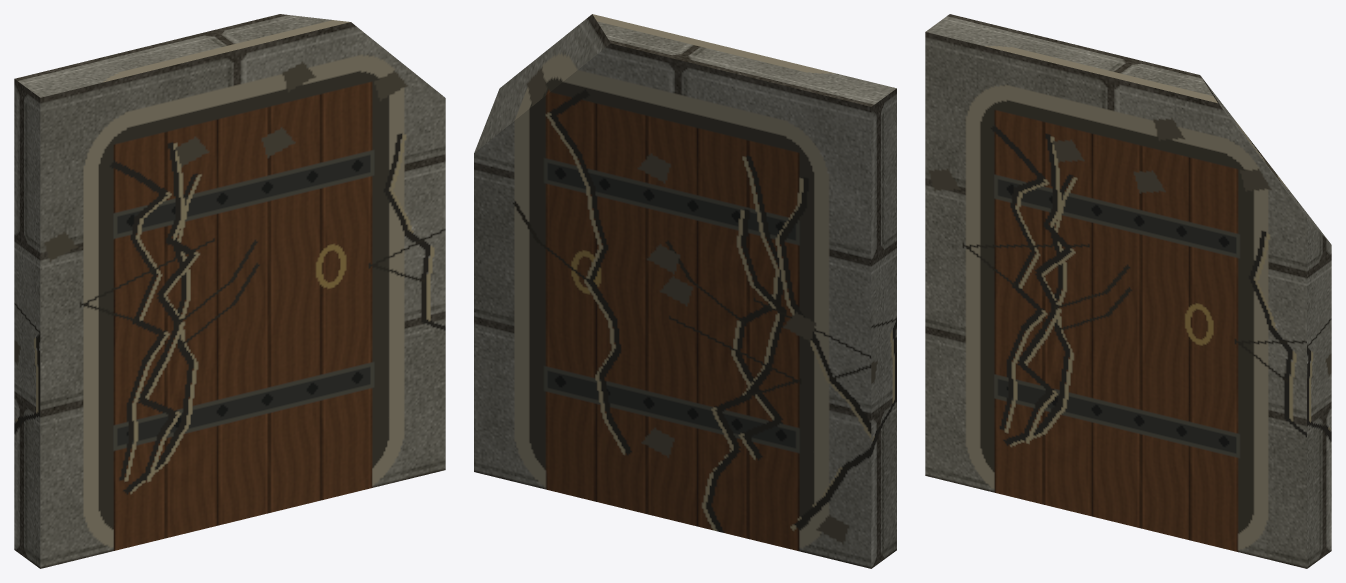
The model's file is door_z2.glb.
The picture shows the model from 3 angles, left to right: view 1: azimuth 30°, elevation 25°; view 2: azimuth 150°, elevation 25°; view 3: azimuth 330°, elevation 25°; orthographic projection. The views are drawn at different scales.
Visible parts, largest first — view 1: door_z2; view 2: door_z2; view 3: door_z2.
Boxes of the visible parts, x1,y1,x2,y2 form: door_z2: [14, 14, 445, 568]; door_z2: [474, 14, 896, 568]; door_z2: [925, 14, 1331, 568].
Size of the model in its own units: 0.9 by 1 by 0.1.
Materials: 1 (1 with a texture image).
